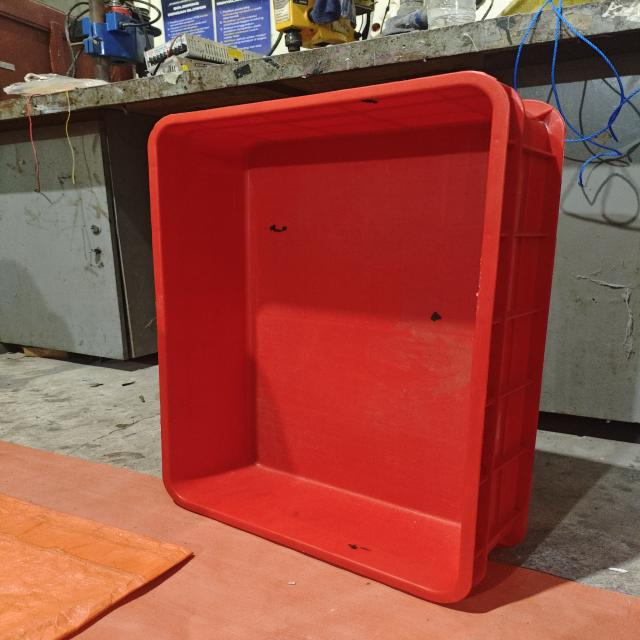red plastic box: (147, 70, 566, 603)
